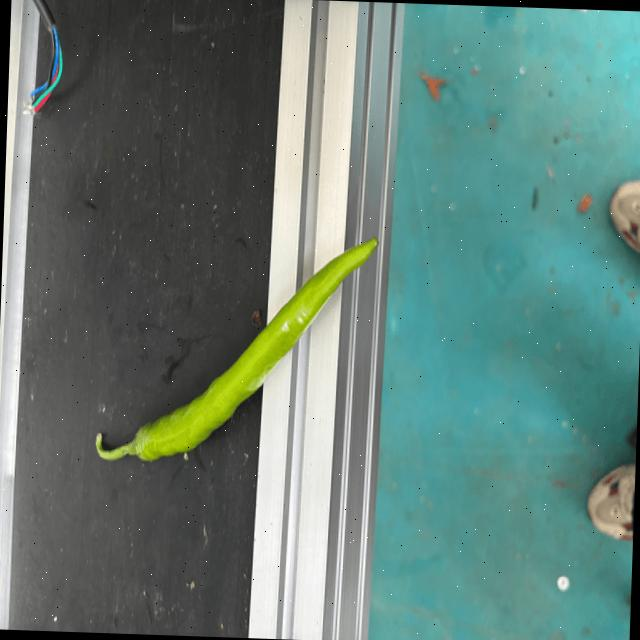chili: (132, 233, 381, 464)
